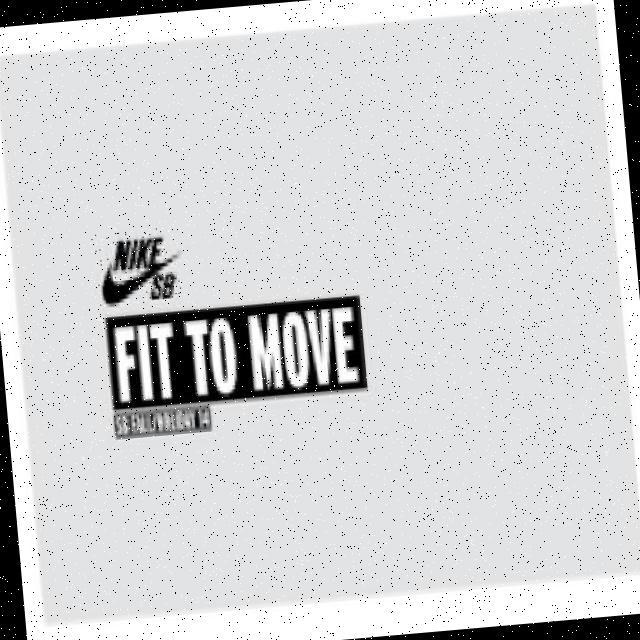Nike: (90, 226, 184, 308)
